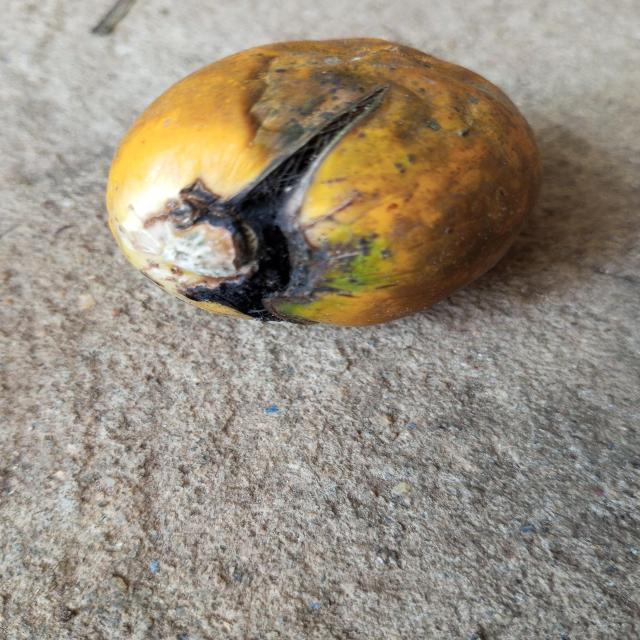damaged: (107, 39, 540, 326)
